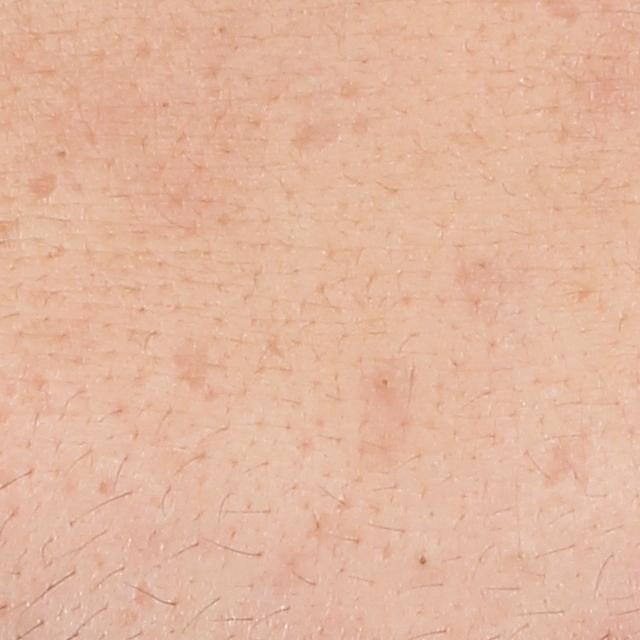atrophic_scar: (168, 328, 216, 393), (539, 440, 594, 490), (287, 112, 344, 154), (20, 169, 59, 212)
comedo: (412, 551, 432, 569), (376, 372, 391, 389), (54, 143, 68, 161)
